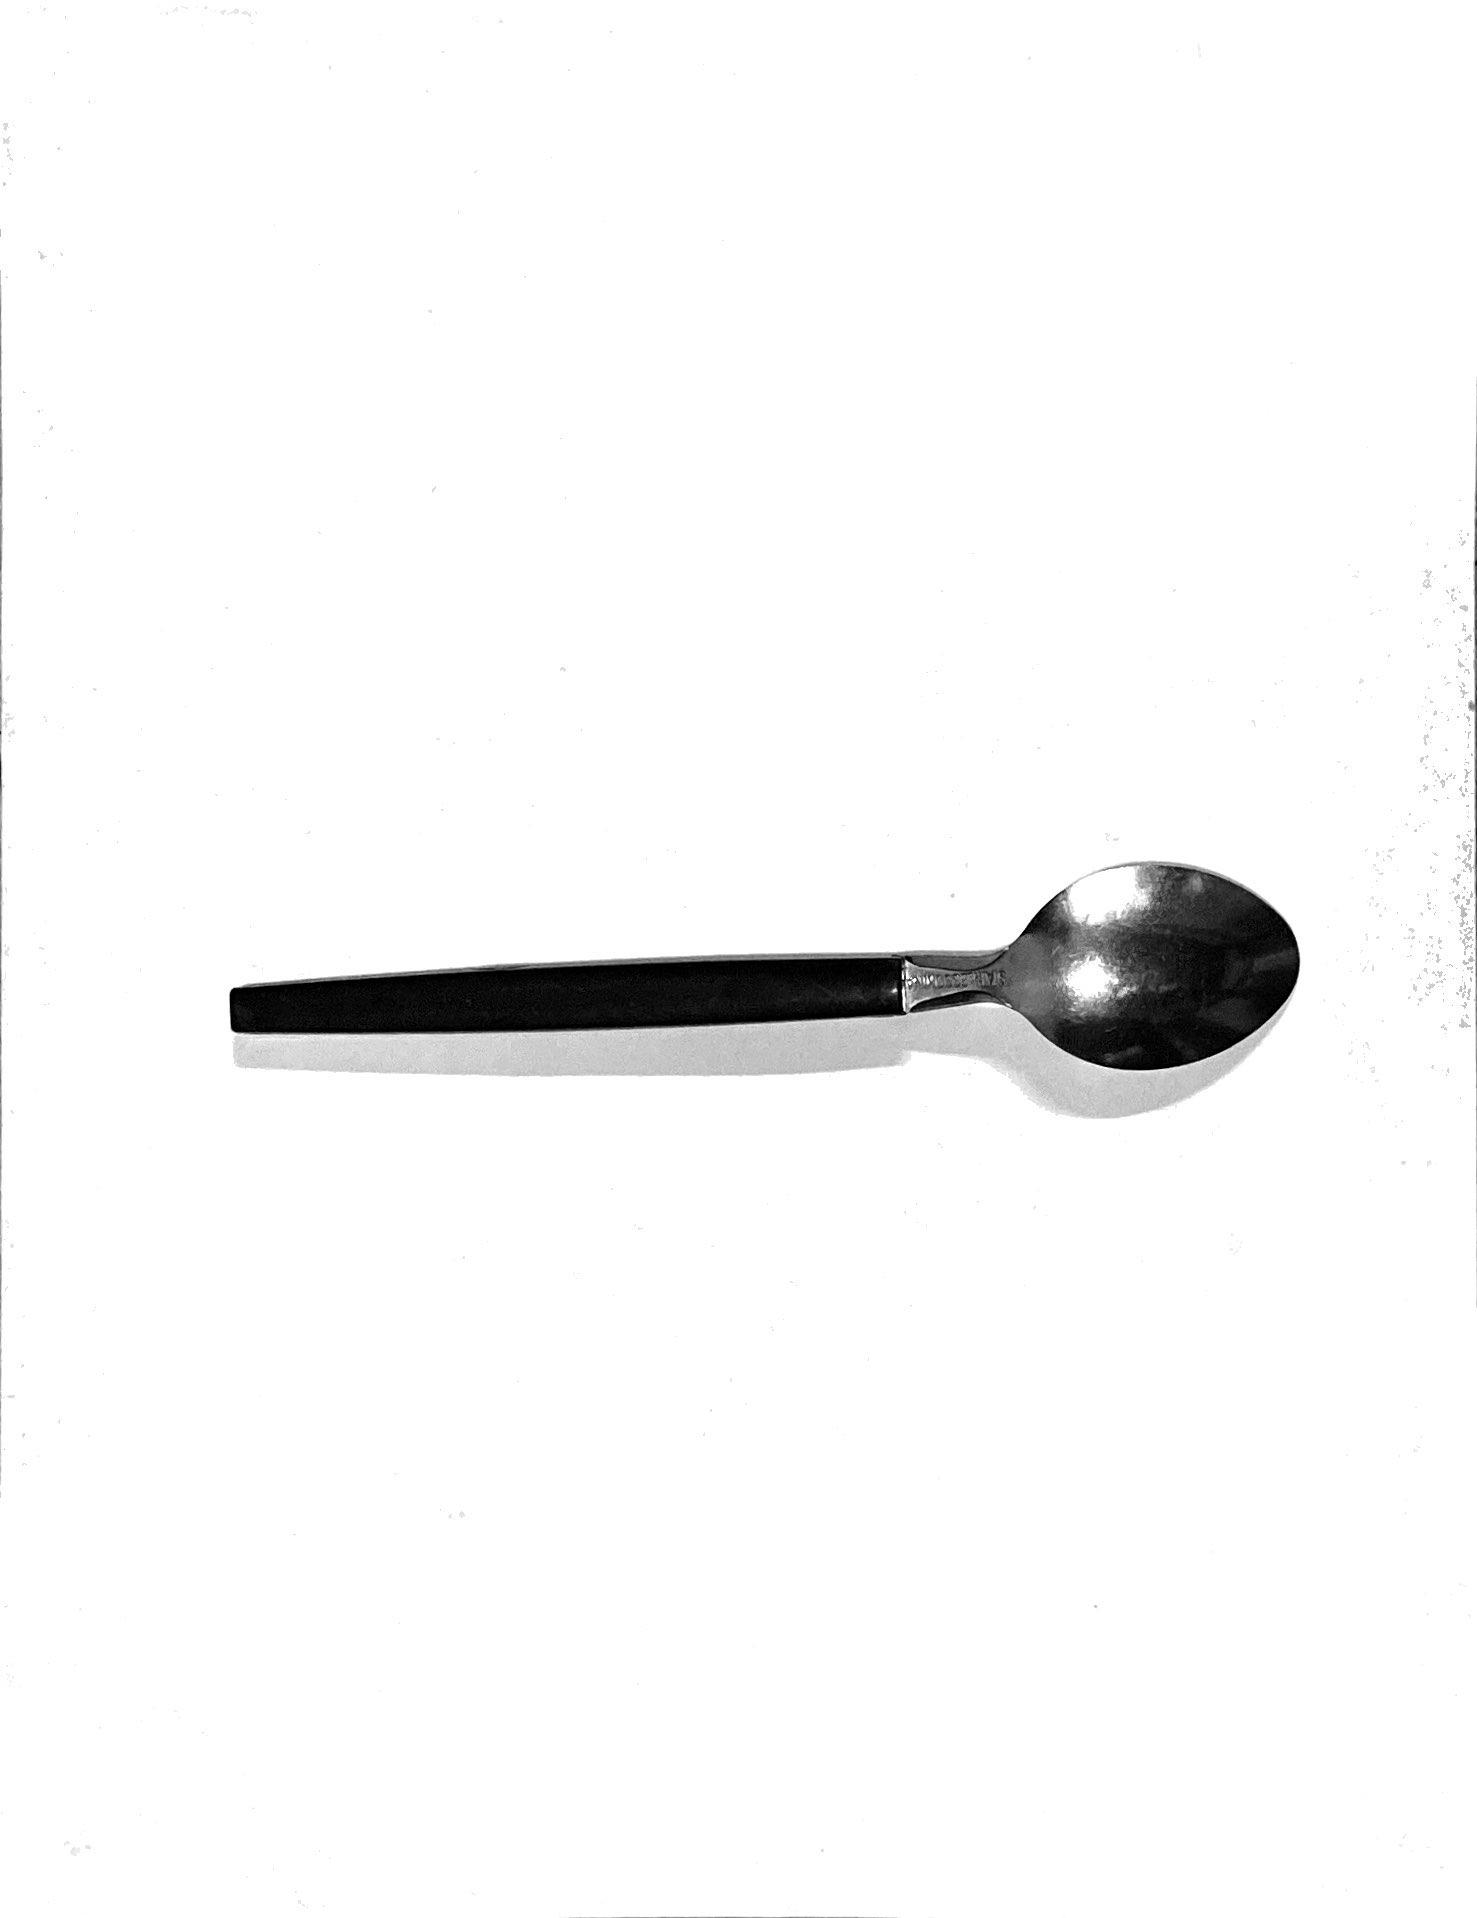Spoon: (209, 802, 1384, 1206)
